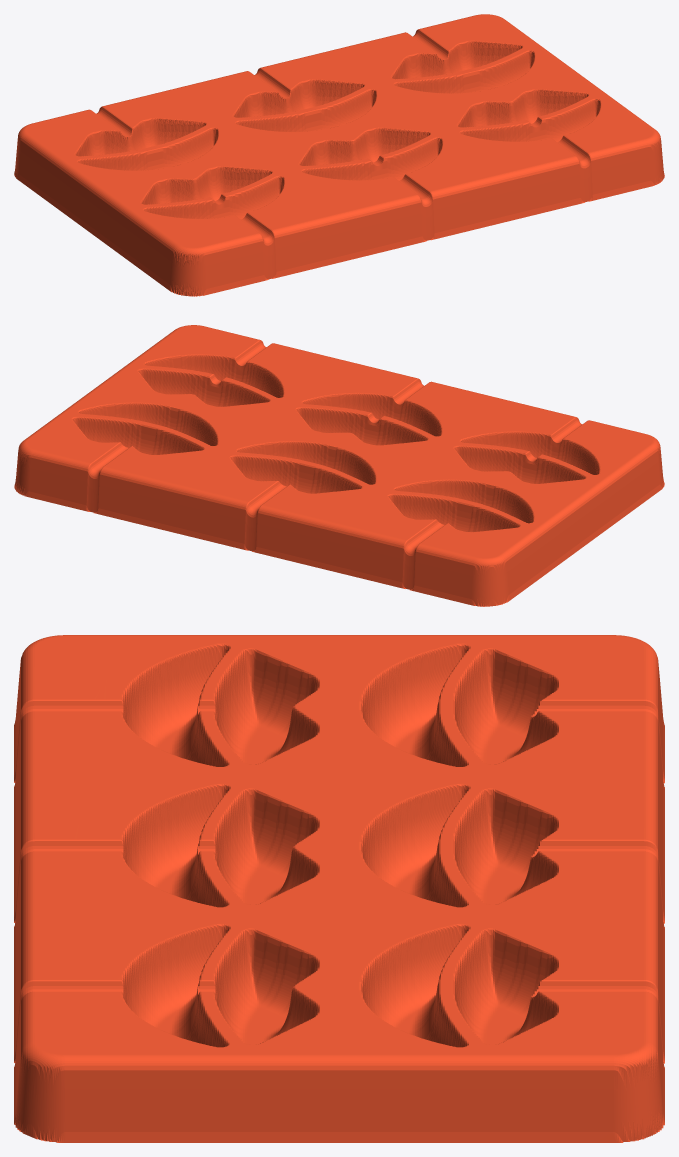
The model's file is mold.glb.
3 views of the same model, one above another, from view 1: azimuth 30°, elevation 25°; view 2: azimuth 150°, elevation 25°; view 3: azimuth 270°, elevation 25° (orthographic). The views are drawn at different scales.
Parts seen in each view (by area): view 1: geometry_0; view 2: geometry_0; view 3: geometry_0.
Boxes of the visible parts, left/top/right/bottom form: geometry_0: left=14, top=14, right=664, bottom=296; geometry_0: left=14, top=325, right=664, bottom=606; geometry_0: left=14, top=635, right=664, bottom=1142.
Size of the model in its own units: 0.1824 by 0.0155 by 0.1152.
